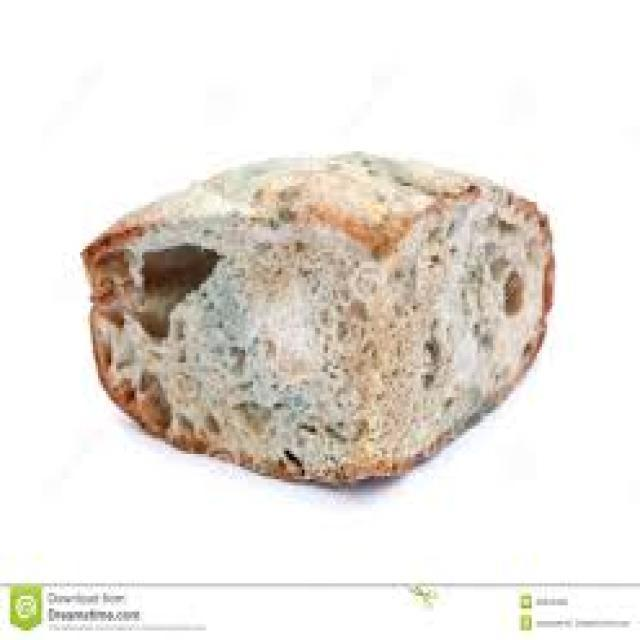BiologicalWaste: (46, 131, 568, 497)
